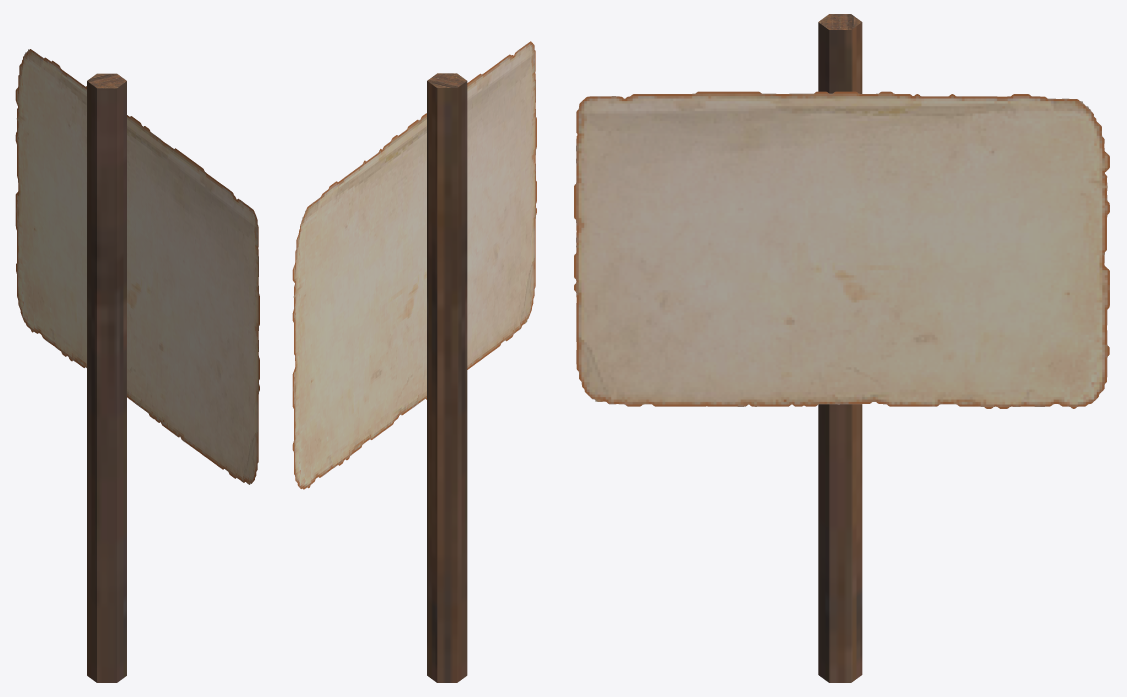
The model's file is auction sign.fbx.
3 views of the same model, side by side, from view 1: azimuth 30°, elevation 25°; view 2: azimuth 150°, elevation 25°; view 3: azimuth 270°, elevation 25° (orthographic). The views are drawn at different scales.
Visible parts, largest first — view 1: Cylinder.003; view 2: Cylinder.003; view 3: Cylinder.003.
Boxes of the visible parts, x1,y1,x2,y2 form: Cylinder.003: [15, 49, 259, 682]; Cylinder.003: [292, 41, 536, 682]; Cylinder.003: [574, 14, 1109, 682].
Size of the model in its own units: 40.66 by 496 by 375.
Materials: 2 (2 with a texture image).
